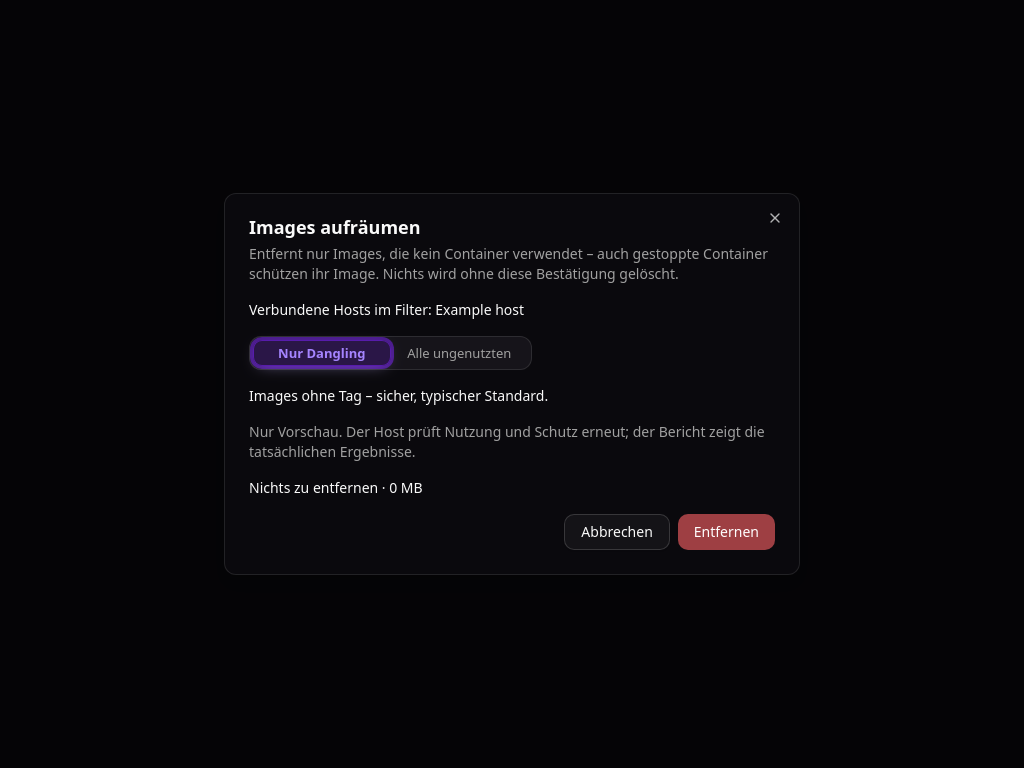
Test: shows actual prune outcomes and unknown reclaimed space, retaining the report
The width and height of the screenshot is (1024, 768).
What coordinates should you click on to do the following:
click the button "Entfernen"
I would click on:
 (726, 532)
Its box is [678,514,775,550].
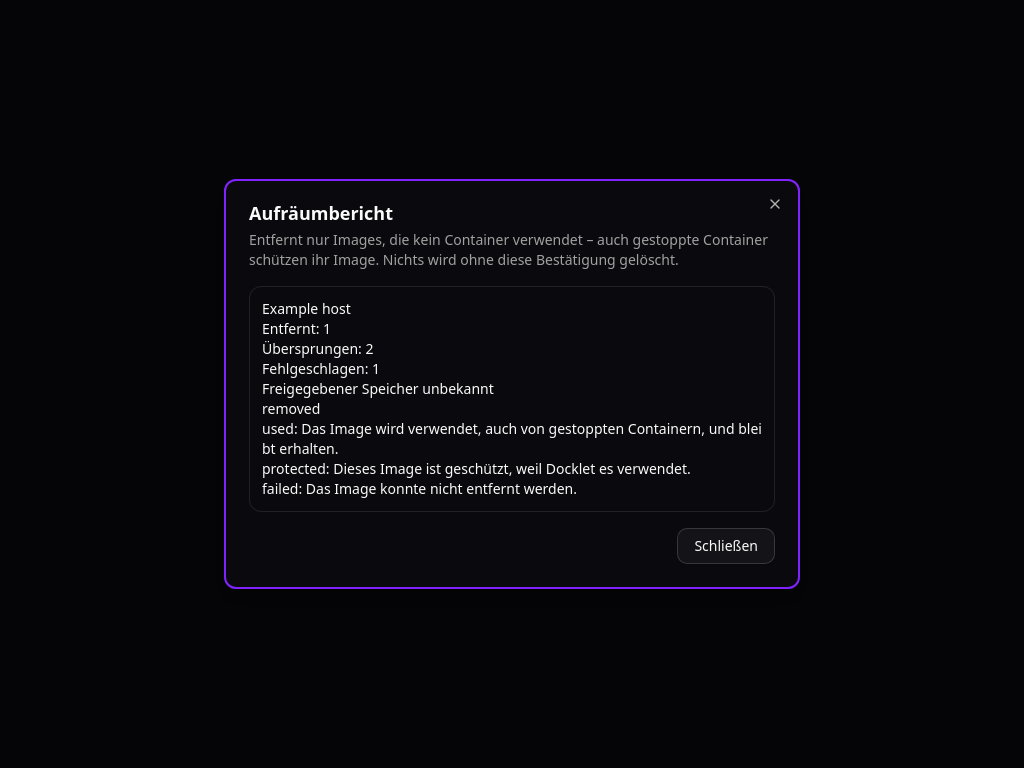
Expected: the heading "Aufräumbericht" is shown, [249,201,393,225]
Expected: the dialog shows "Das Image wird verwendet, auch von gestoppten Containern, und bleibt erhalten.", [262,419,762,458]
Expected: the dialog shows "Dieses Image ist geschützt, weil Docklet es verwendet.", [333,459,691,478]
